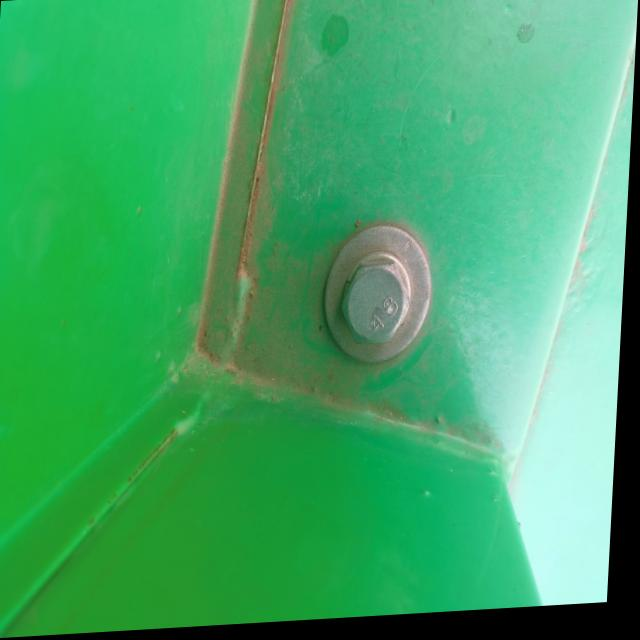Regular bolt: (342, 261, 416, 352)
